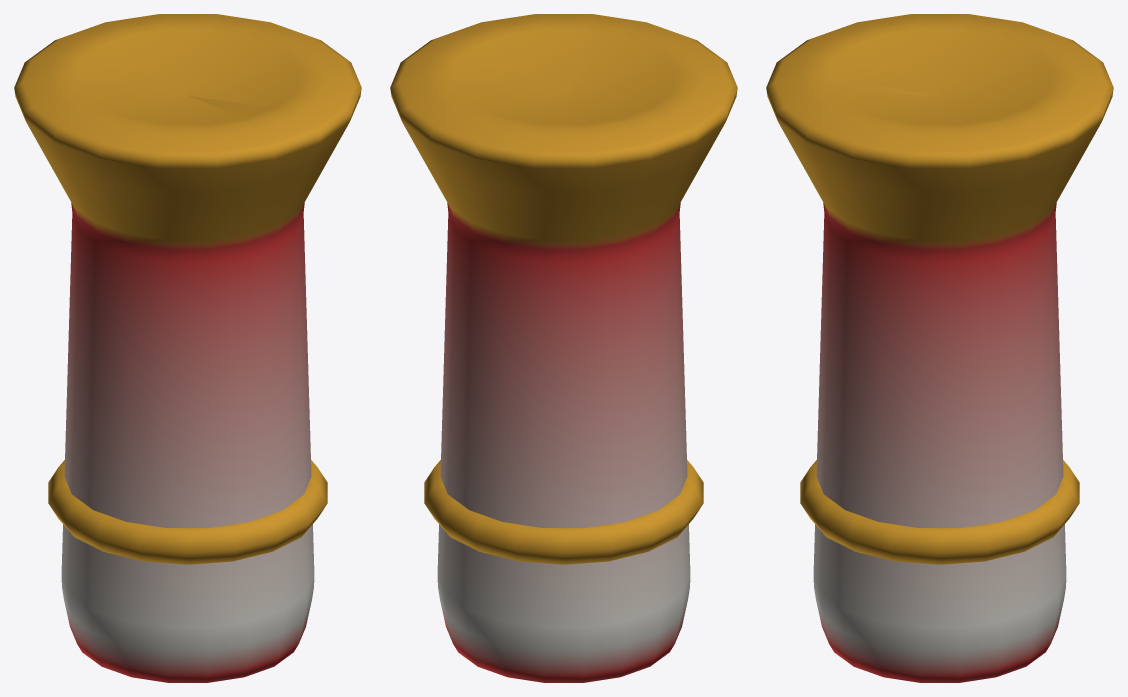
The model's file is ee_confetti_cannon.glb.
The picture shows the model from 3 angles, left to right: view 1: azimuth 30°, elevation 25°; view 2: azimuth 150°, elevation 25°; view 3: azimuth 270°, elevation 25°; orthographic projection.
Visible parts, largest first — view 1: barrel; view 2: barrel; view 3: barrel.
Boxes of the visible parts, x1,y1,x2,y2 form: barrel: (14, 14, 361, 682); barrel: (390, 14, 737, 682); barrel: (766, 14, 1113, 682).
Size of the model in its own units: 0.2969 by 0.5388 by 0.3015.
